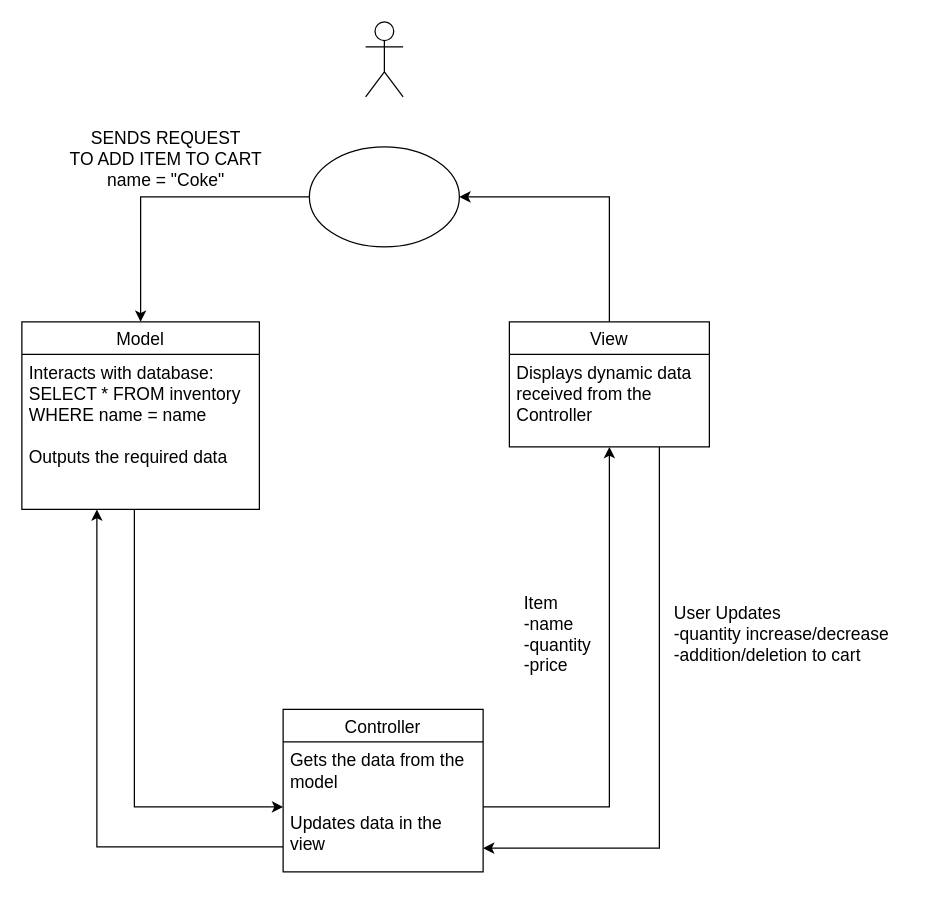
Image size: 931x898. Some labels were removed from this diagram. The centre of each missing label's shape, as x and y in pixels:
BROWSER: point (383, 196)
User: point (383, 59)
